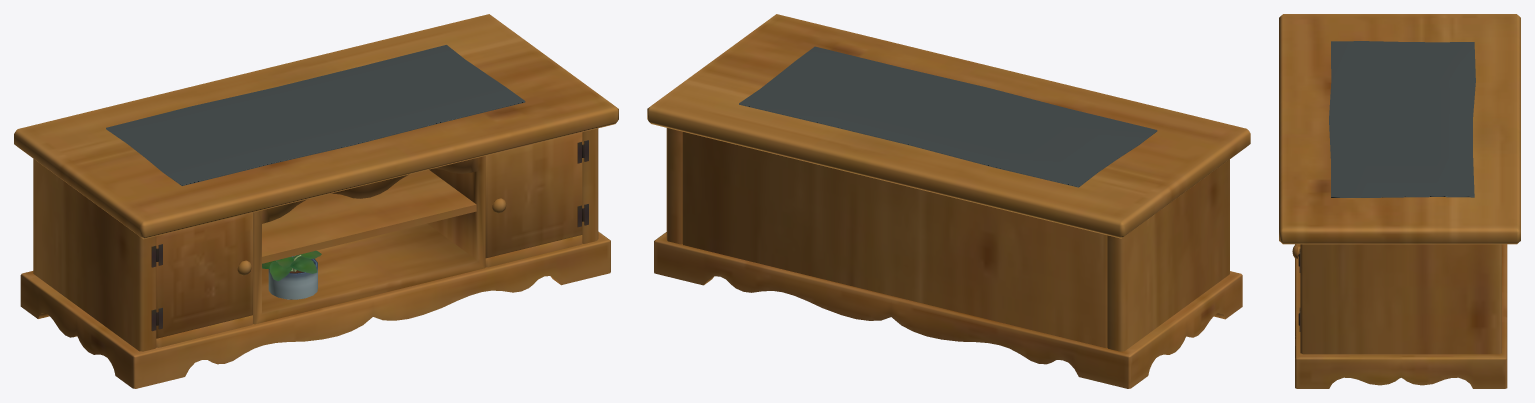
3 views of the same model, side by side, from view 1: azimuth 30°, elevation 25°; view 2: azimuth 150°, elevation 25°; view 3: azimuth 270°, elevation 25° (orthographic). The views are drawn at different scales.
Size of the model in its own units: 18 by 6.25 by 8.47.
Materials: 2 (2 with a texture image).
